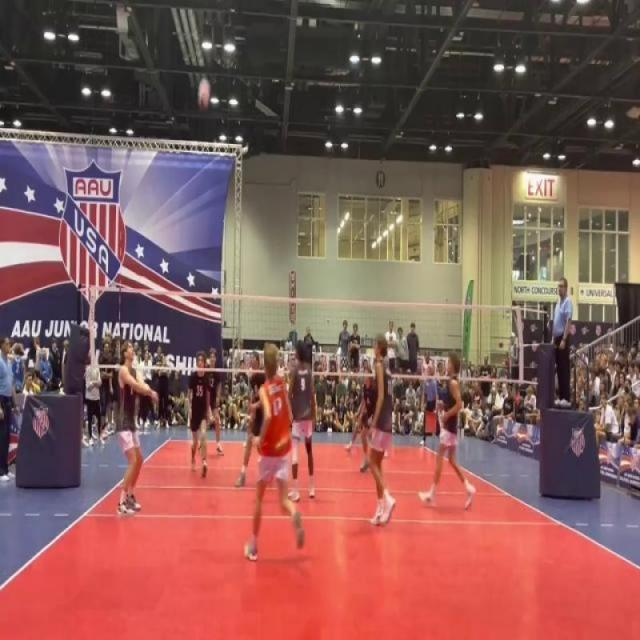volleyball: (196, 74, 213, 112)
